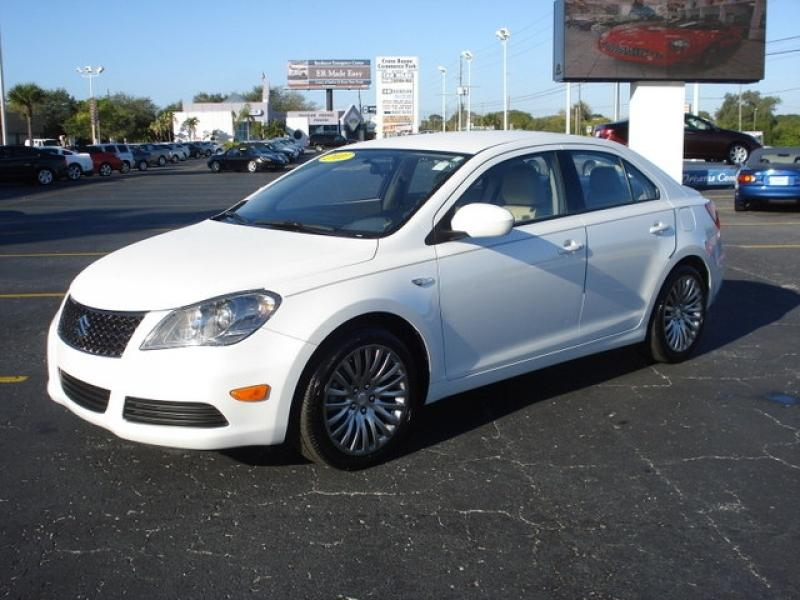suzuki: (70, 312, 96, 340)
